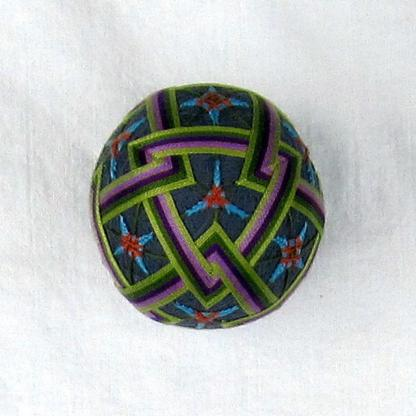Ball: (91, 83, 326, 330)
